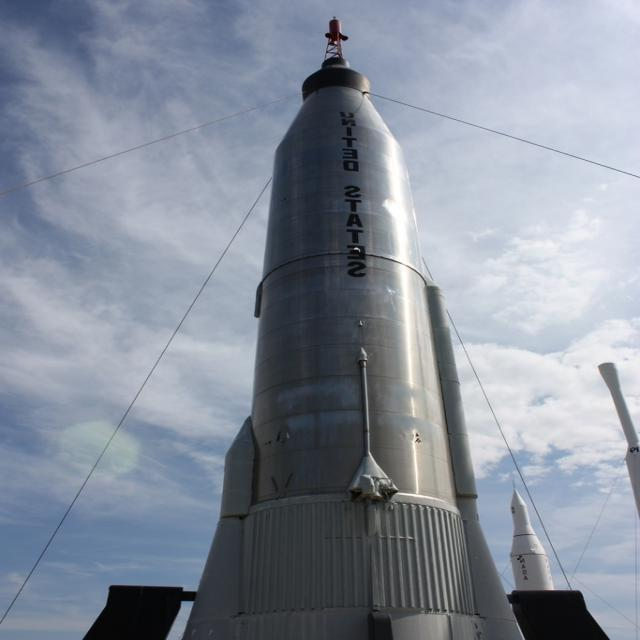missile: (164, 15, 545, 640), (494, 478, 573, 598)
